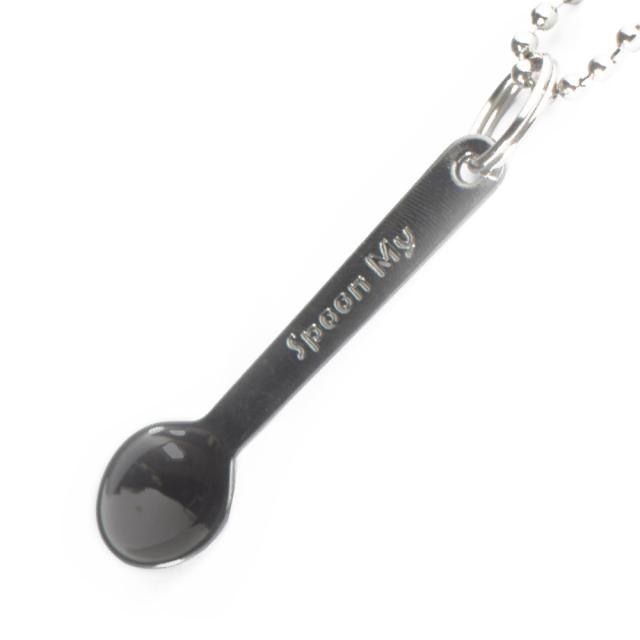spoon: (87, 46, 573, 584)
